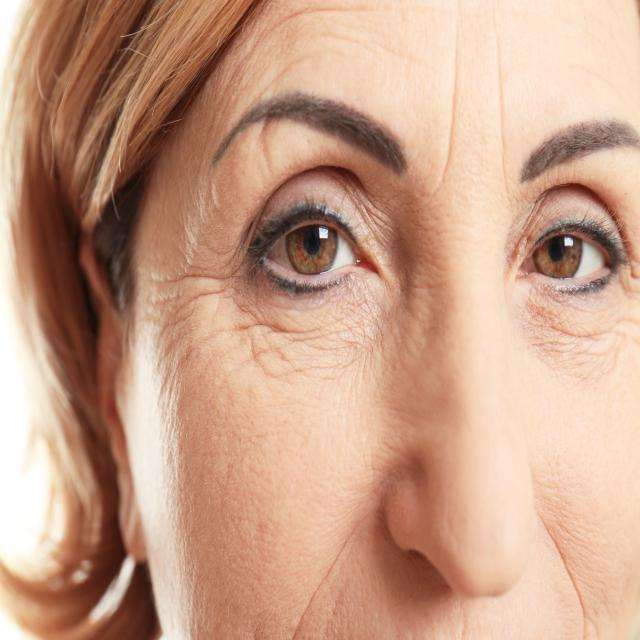Dry-Skin: (158, 164, 252, 464), (276, 511, 411, 640), (504, 259, 621, 385), (529, 448, 612, 614), (272, 299, 397, 401)
